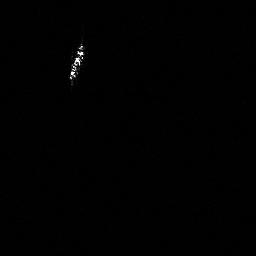ship: (65, 38, 89, 84)
